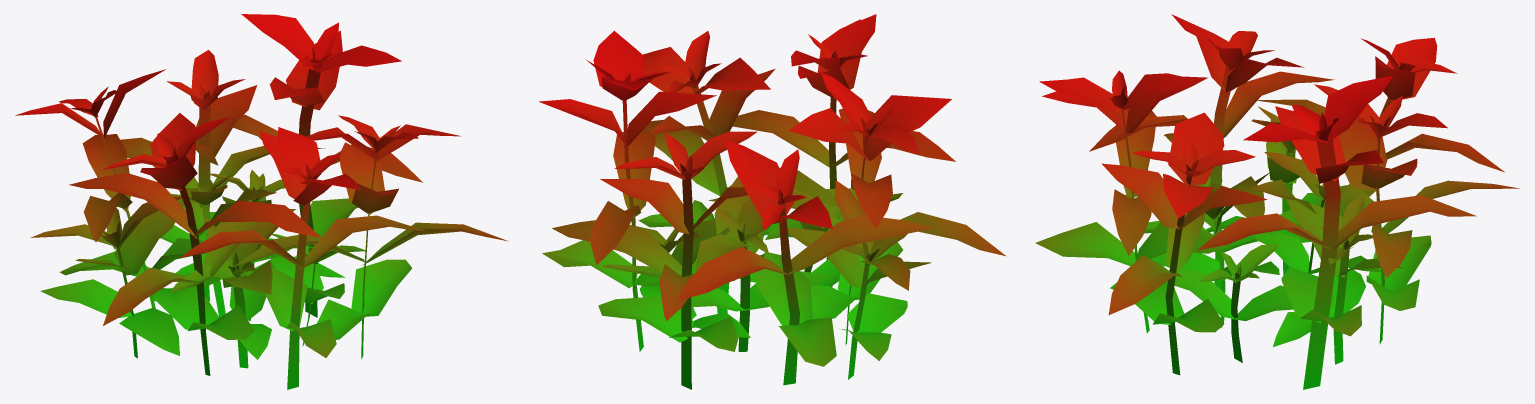
The model's file is Var5_LOD4.fbx.
3 views of the same model, side by side, from view 1: azimuth 30°, elevation 25°; view 2: azimuth 150°, elevation 25°; view 3: azimuth 270°, elevation 25° (orthographic). The views are drawn at different scales.
Parts seen in each view (by area): view 1: _nzsd_Var5_LOD4; view 2: _nzsd_Var5_LOD4; view 3: _nzsd_Var5_LOD4.
Boxes of the visible parts, bbox=[...] form: _nzsd_Var5_LOD4: bbox=[15, 14, 507, 389]; _nzsd_Var5_LOD4: bbox=[539, 14, 1006, 389]; _nzsd_Var5_LOD4: bbox=[1035, 14, 1519, 389].
Bounding box in the file's own units: 30.79 × 21.95 × 32.36.
